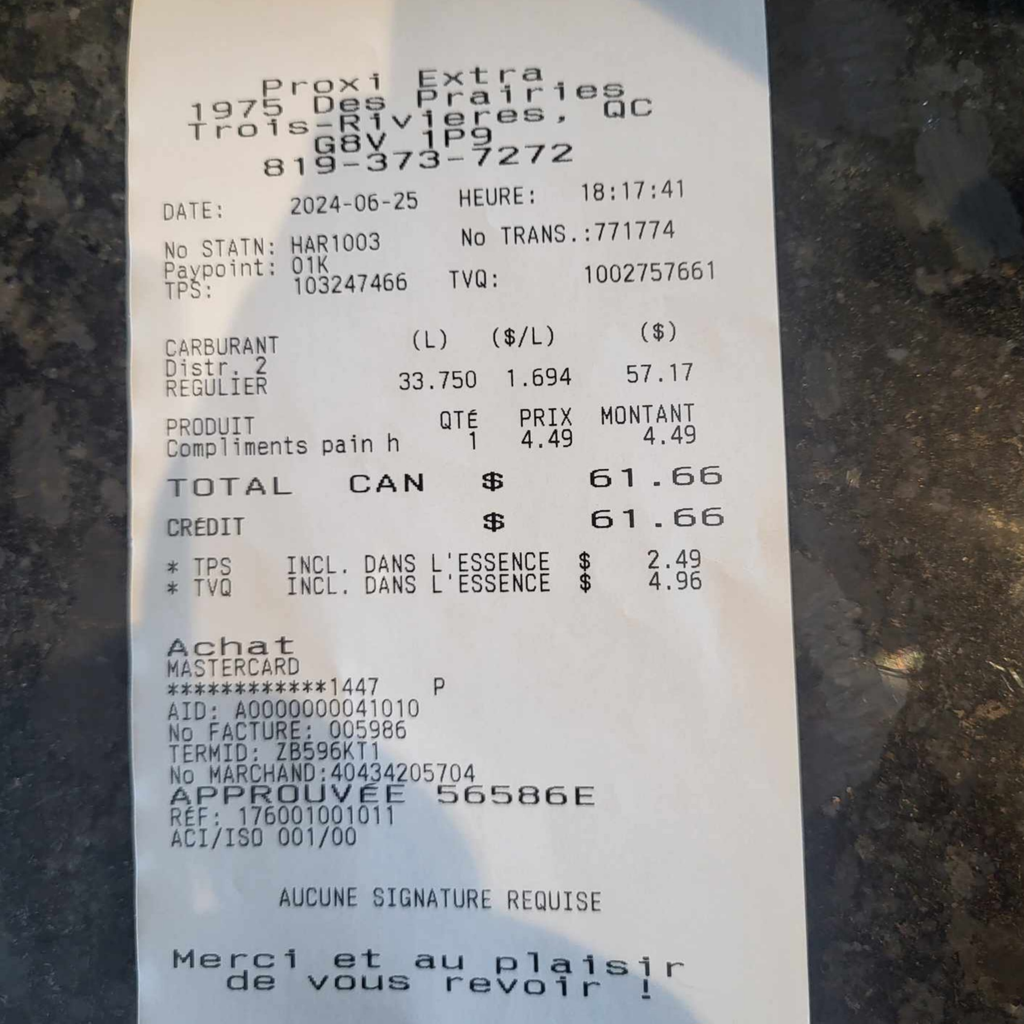recipt: (128, 0, 808, 1022)
